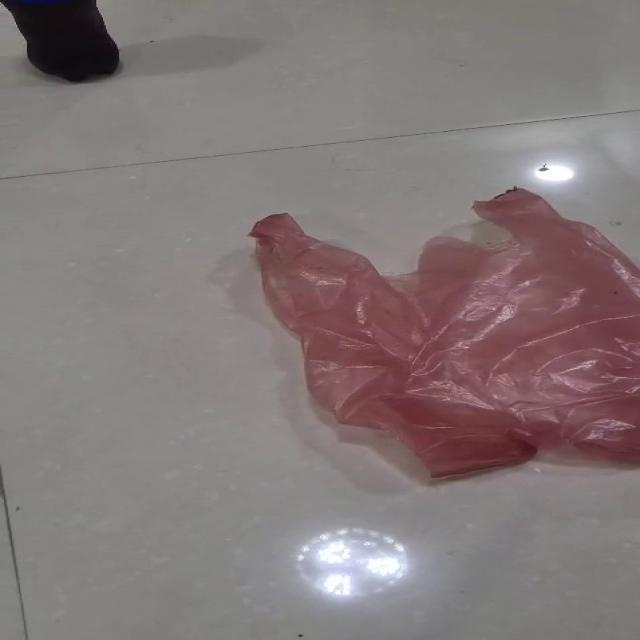plastic: (246, 185, 639, 478)
